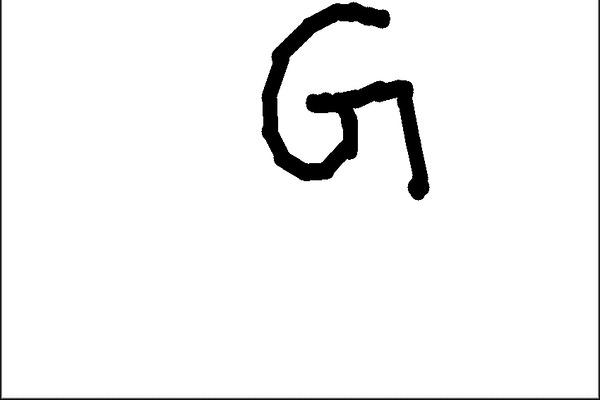G: (251, 0, 435, 203)
